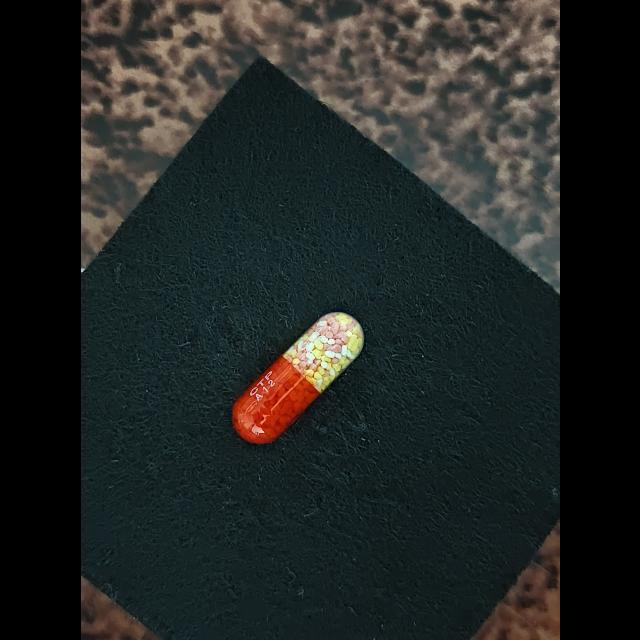Intact Capsule: (231, 312, 364, 444)
